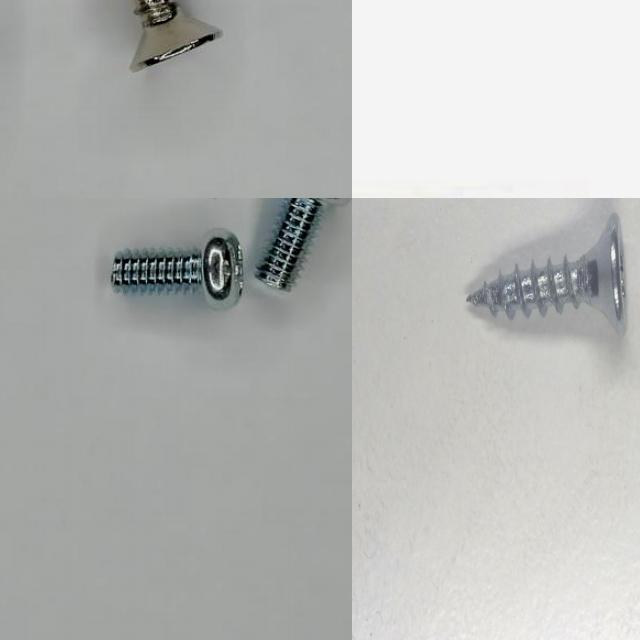Screw: (467, 212, 628, 335), (112, 231, 244, 308), (257, 198, 341, 290), (132, 0, 223, 72)
